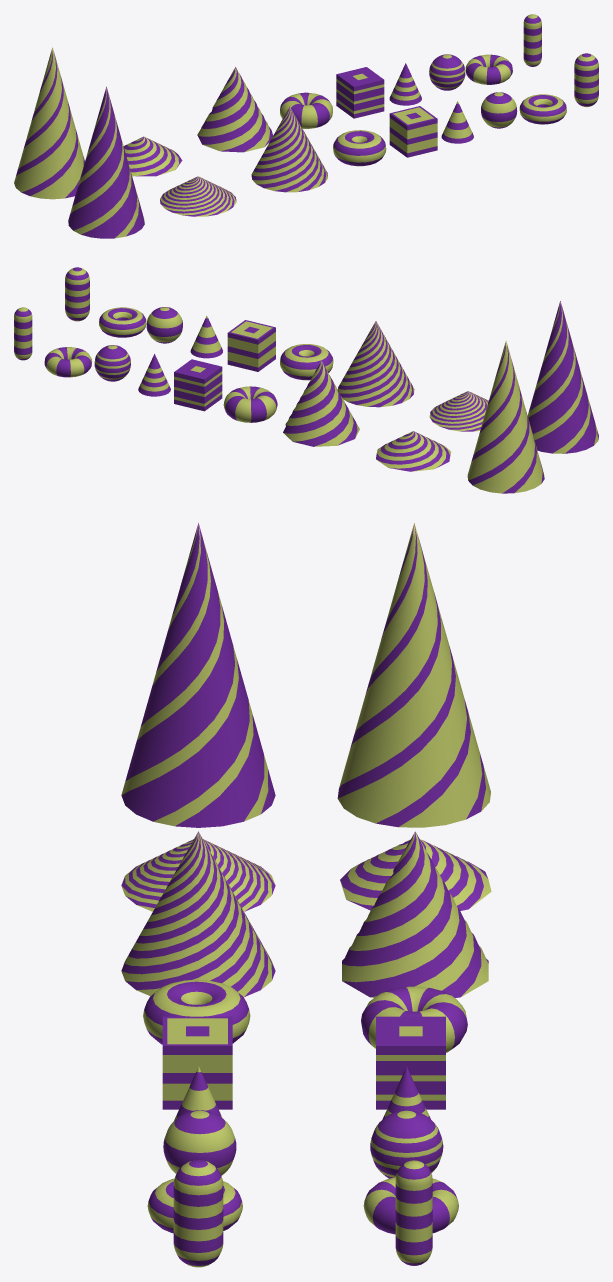
Rendered from elementos3D.fbx.
The picture shows the model from 3 angles, top to bottom: view 1: azimuth 30°, elevation 25°; view 2: azimuth 150°, elevation 25°; view 3: azimuth 270°, elevation 25°; orthographic projection. The views are drawn at different scales.
Parts seen in each view (by area): view 1: pCone7, pCone8, pCone3, pCone4, pCone6, pCube2, pCube1, pCone5, pTorus1, pTorus3, pSphere4, pTorus2 (+6 smaller); view 2: pCone8, pCone7, pCone3, pCone4, pCone5, pCube1, pCube2, pCone6, pTorus3, pTorus1, pSphere4, pTorus4 (+6 smaller); view 3: pCone8, pCone7, pCone4, pCone3, pCube2, pCube1, pSphere4, pCone6, pCone5, pTorus1, pSphere2, pSphere1 (+6 smaller).
Part boxes in pixels (x1=…): pCone7: x1=68, y1=86, x2=144, y2=238; pCone8: x1=14, y1=47, x2=84, y2=199; pCone3: x1=251, y1=106, x2=327, y2=192; pCone4: x1=197, y1=67, x2=273, y2=152; pCone6: x1=160, y1=176, x2=236, y2=216; pCube2: x1=389, y1=106, x2=437, y2=157; pCube1: x1=336, y1=67, x2=384, y2=118; pCone5: x1=123, y1=136, x2=182, y2=176; pTorus1: x1=333, y1=130, x2=386, y2=166; pTorus3: x1=280, y1=92, x2=332, y2=128; pSphere4: x1=574, y1=53, x2=598, y2=107; pTorus2: x1=465, y1=54, x2=512, y2=84; pCone8: x1=467, y1=340, x2=544, y2=493; pCone7: x1=527, y1=301, x2=598, y2=453; pCone3: x1=337, y1=321, x2=414, y2=407; pCone4: x1=283, y1=361, x2=359, y2=446; pCone5: x1=376, y1=431, x2=450, y2=471; pCube1: x1=174, y1=359, x2=222, y2=411; pCube2: x1=227, y1=320, x2=275, y2=371; pCone6: x1=429, y1=391, x2=488, y2=431; pTorus3: x1=223, y1=386, x2=277, y2=422; pTorus1: x1=280, y1=344, x2=333, y2=380; pSphere4: x1=65, y1=267, x2=89, y2=321; pTorus4: x1=99, y1=307, x2=146, y2=337; pCone8: x1=337, y1=523, x2=490, y2=827; pCone7: x1=121, y1=523, x2=275, y2=827; pCone4: x1=342, y1=831, x2=488, y2=997; pCone3: x1=121, y1=831, x2=275, y2=996; pCube2: x1=162, y1=1016, x2=232, y2=1109; pCube1: x1=376, y1=1016, x2=445, y2=1109; pSphere4: x1=173, y1=1160, x2=223, y2=1267; pCone6: x1=121, y1=839, x2=275, y2=911; pCone5: x1=340, y1=839, x2=491, y2=910; pTorus1: x1=143, y1=979, x2=250, y2=1044; pSphere2: x1=395, y1=1160, x2=432, y2=1265; pSphere1: x1=370, y1=1110, x2=443, y2=1178.
Size of the model in its own units: 322 by 80.54 by 98.49.
